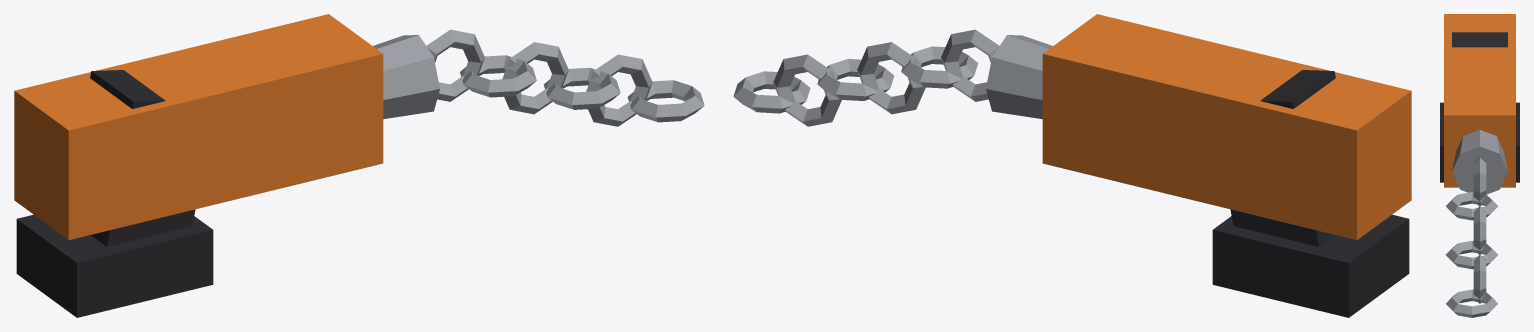
File: aging_machine.glb
3 views of the same model, side by side, from view 1: azimuth 30°, elevation 25°; view 2: azimuth 150°, elevation 25°; view 3: azimuth 270°, elevation 25° (orthographic). The views are drawn at different scales.
Parts seen in each view (by area): view 1: body_drill_orange, battery_drill_dark, chain_chain_steel, chuck_chain_steel, grip_drill_dark; view 2: body_drill_orange, battery_drill_dark, chain_chain_steel, chuck_chain_steel, grip_drill_dark; view 3: body_drill_orange, chain_chain_steel, chuck_chain_steel, grip_drill_dark, battery_drill_dark.
Boxes of the visible parts, bbox=[...] form: body_drill_orange: bbox=[14, 14, 383, 239]; battery_drill_dark: bbox=[16, 214, 213, 317]; chain_chain_steel: bbox=[426, 29, 704, 126]; chuck_chain_steel: bbox=[373, 35, 439, 119]; grip_drill_dark: bbox=[90, 70, 195, 246]; body_drill_orange: bbox=[1042, 14, 1411, 239]; battery_drill_dark: bbox=[1212, 214, 1409, 317]; chain_chain_steel: bbox=[733, 29, 999, 126]; chuck_chain_steel: bbox=[986, 35, 1052, 119]; grip_drill_dark: bbox=[1230, 70, 1335, 246]; body_drill_orange: bbox=[1444, 14, 1515, 187]; chain_chain_steel: bbox=[1446, 157, 1497, 317]; chuck_chain_steel: bbox=[1452, 130, 1507, 194]; grip_drill_dark: bbox=[1452, 32, 1507, 47]; battery_drill_dark: bbox=[1440, 102, 1519, 182].
Size of the model in its own units: 0.623 by 0.1825 by 0.1.
